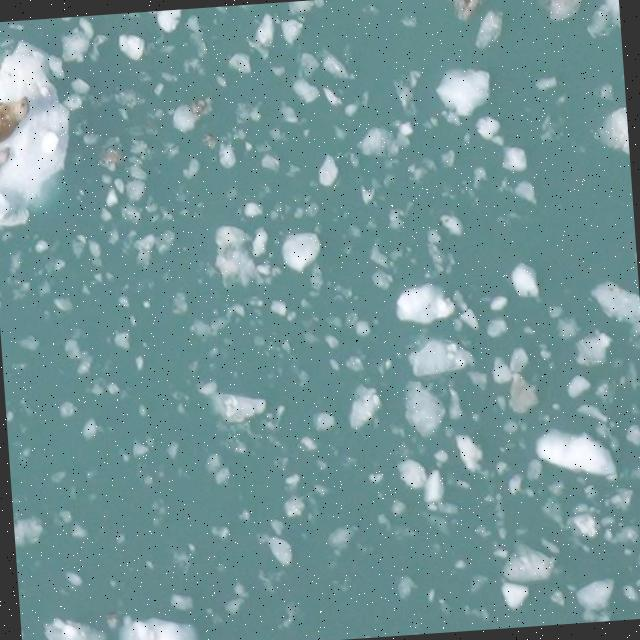seal: (0, 96, 26, 143), (0, 149, 8, 167)
